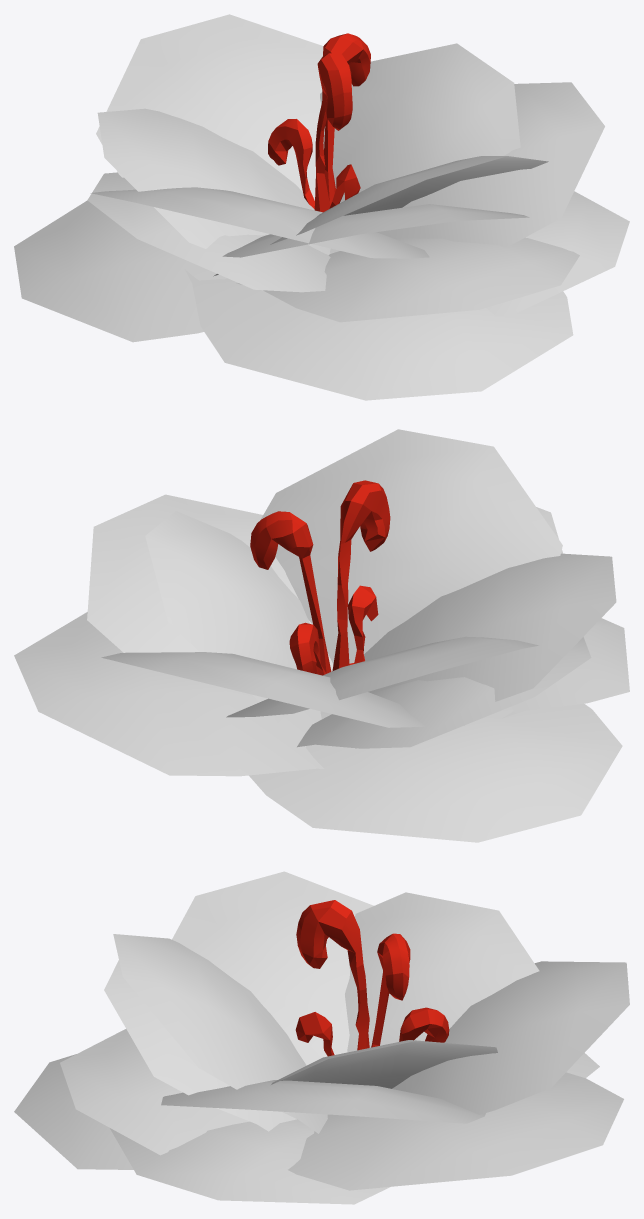
The model's file is MF_Fern_2_Leaves.FBX.
3 views of the same model, one above another, from view 1: azimuth 30°, elevation 25°; view 2: azimuth 150°, elevation 25°; view 3: azimuth 270°, elevation 25° (orthographic). The views are drawn at different scales.
Visible parts, largest first — view 1: Leaves_Fern_2, Fern_2_Leaves; view 2: Leaves_Fern_2, Fern_2_Leaves; view 3: Leaves_Fern_2, Fern_2_Leaves.
Part boxes in pixels (bbox=[...]): Leaves_Fern_2: bbox=[14, 14, 629, 400]; Fern_2_Leaves: bbox=[268, 33, 370, 212]; Leaves_Fern_2: bbox=[14, 429, 629, 842]; Fern_2_Leaves: bbox=[250, 480, 390, 675]; Leaves_Fern_2: bbox=[14, 871, 629, 1204]; Fern_2_Leaves: bbox=[295, 900, 449, 1056].
Size of the model in its own units: 2.29 by 2.42 by 0.9661.
